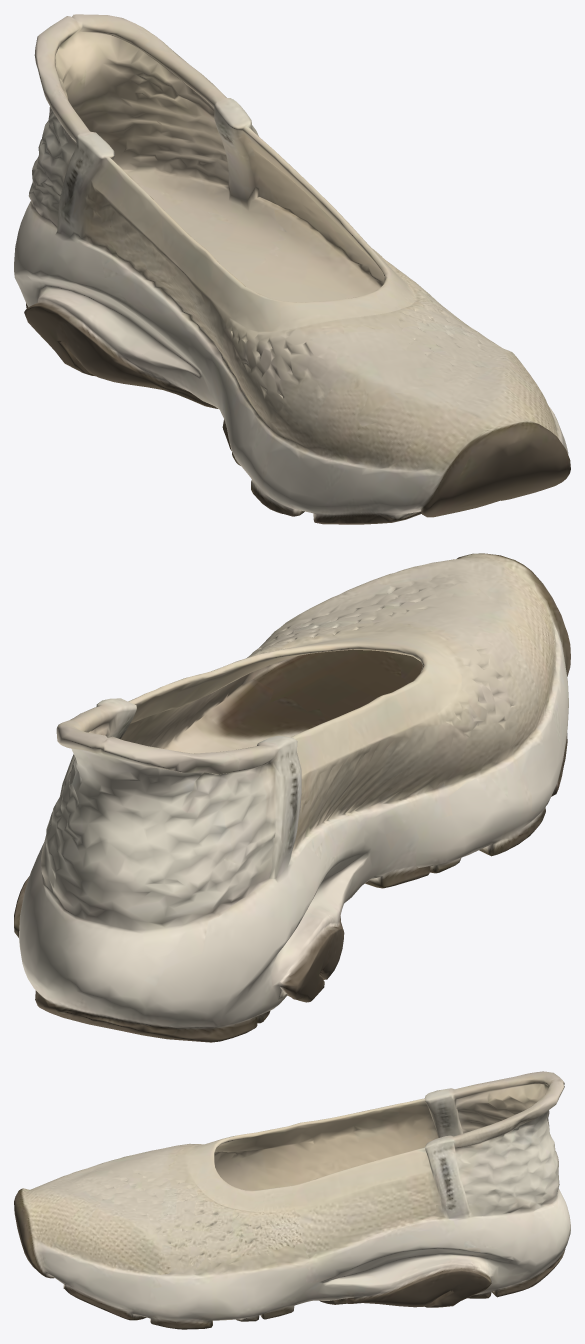
File: begin-walk-grace-for-women-ivory.glb
3 views of the same model, one above another, from view 1: azimuth 30°, elevation 25°; view 2: azimuth 150°, elevation 25°; view 3: azimuth 270°, elevation 25° (orthographic). The views are drawn at different scales.
Visible parts, largest first — view 1: tripo_node_b2a6f2bd-8cf9-44e0-a835-8aa8ab25c244; view 2: tripo_node_b2a6f2bd-8cf9-44e0-a835-8aa8ab25c244; view 3: tripo_node_b2a6f2bd-8cf9-44e0-a835-8aa8ab25c244.
Part boxes in pixels (x1,y1,x2,y2): tripo_node_b2a6f2bd-8cf9-44e0-a835-8aa8ab25c244: (14, 14, 570, 524); tripo_node_b2a6f2bd-8cf9-44e0-a835-8aa8ab25c244: (14, 553, 570, 1042); tripo_node_b2a6f2bd-8cf9-44e0-a835-8aa8ab25c244: (14, 1071, 570, 1329).
Size of the model in its own units: 0.4271 by 0.3738 by 1.
1 material, 1 textured.
